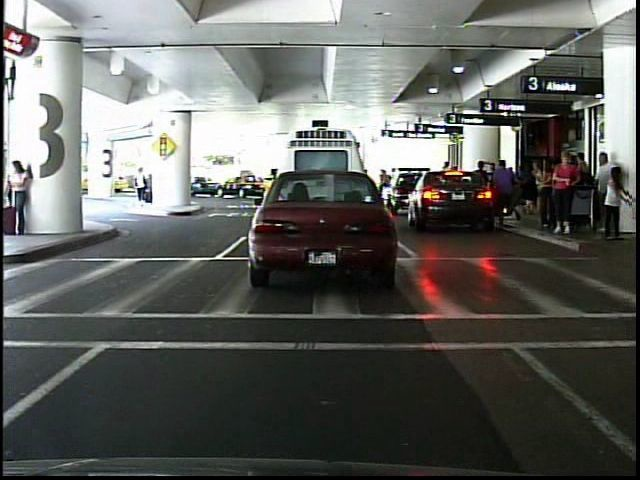person: (550, 148, 582, 240), (9, 157, 35, 239), (129, 162, 158, 209)
